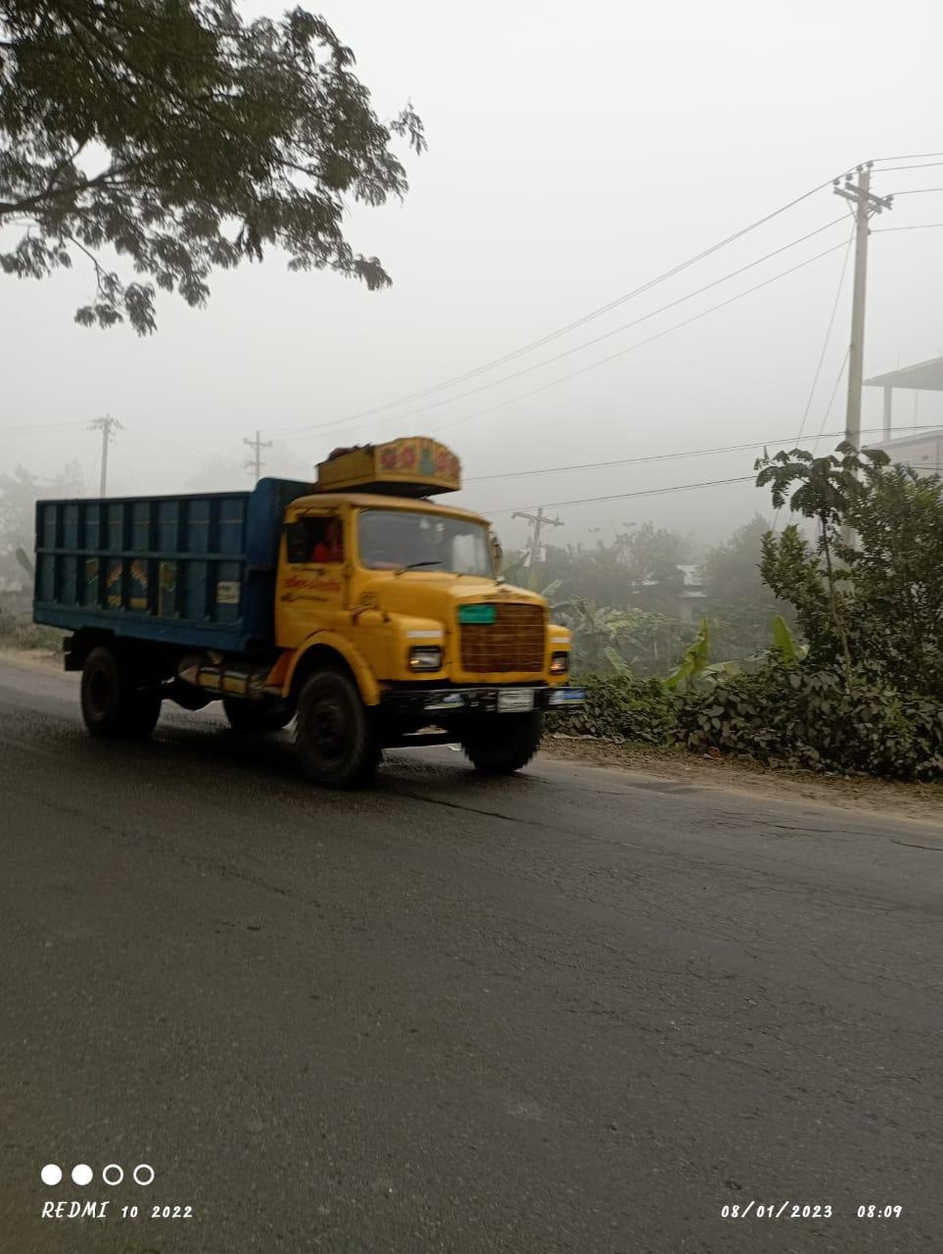Truck: (31, 438, 584, 789)
